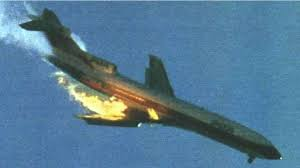maybay_dansu: (26, 10, 287, 162)
